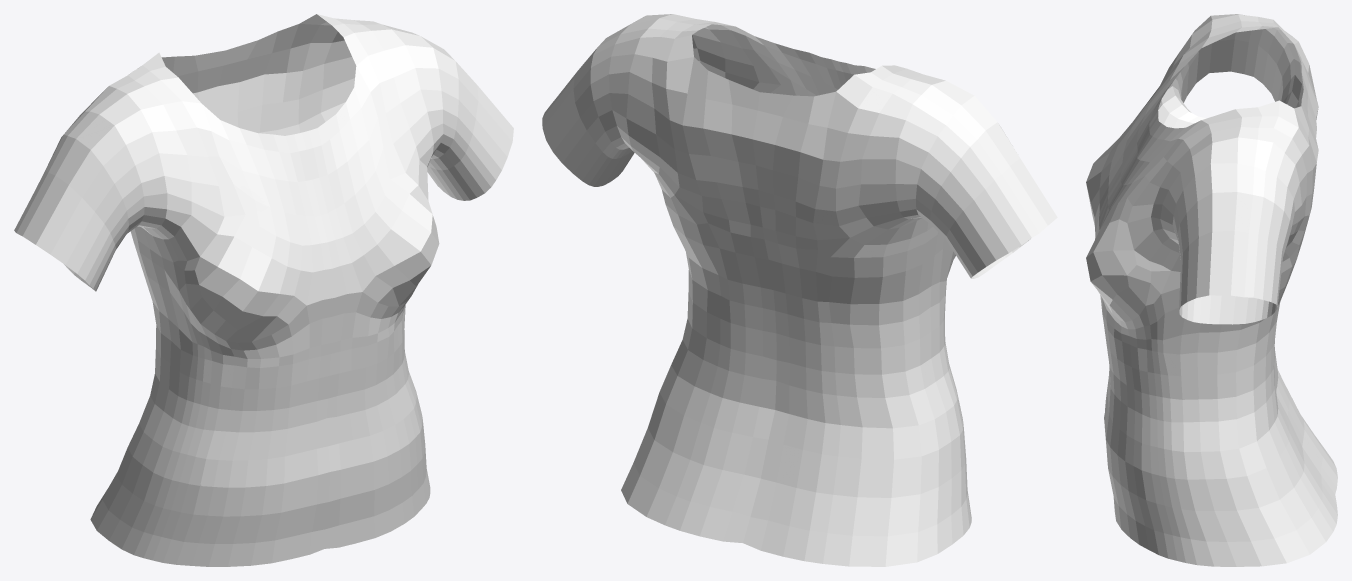
File: garment.glb
3 renders of one model, left to right at view 1: azimuth 30°, elevation 25°; view 2: azimuth 150°, elevation 25°; view 3: azimuth 270°, elevation 25°, orthographic. The views are drawn at different scales.
Visible parts, largest first — view 1: garment; view 2: garment; view 3: garment.
Part boxes in pixels (x1,y1,x2,y2): garment: (14, 14, 513, 566); garment: (542, 14, 1057, 566); garment: (1086, 14, 1337, 566).
Bounding box in the file's own units: 5.39 × 4.86 × 2.56.
Materials: 1 (1 with a texture image).
